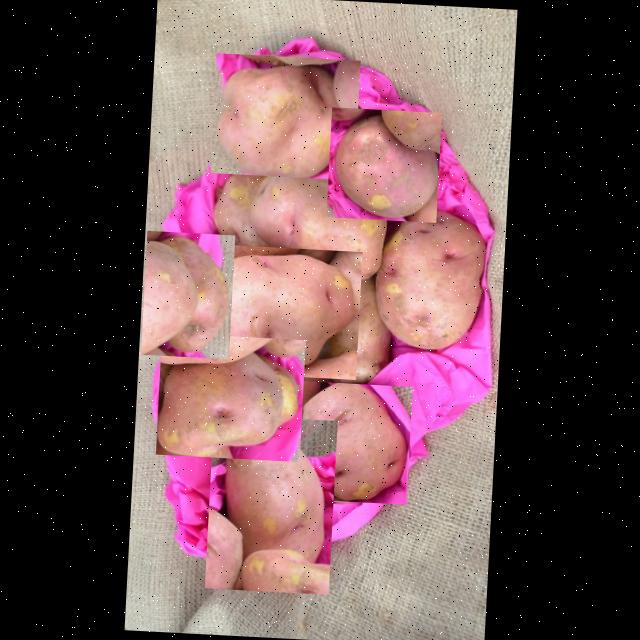Potato: (172, 242, 362, 380), (204, 414, 337, 594), (155, 333, 305, 462), (210, 54, 360, 180), (371, 204, 490, 355), (292, 381, 412, 505), (325, 107, 441, 223), (140, 231, 234, 359)
